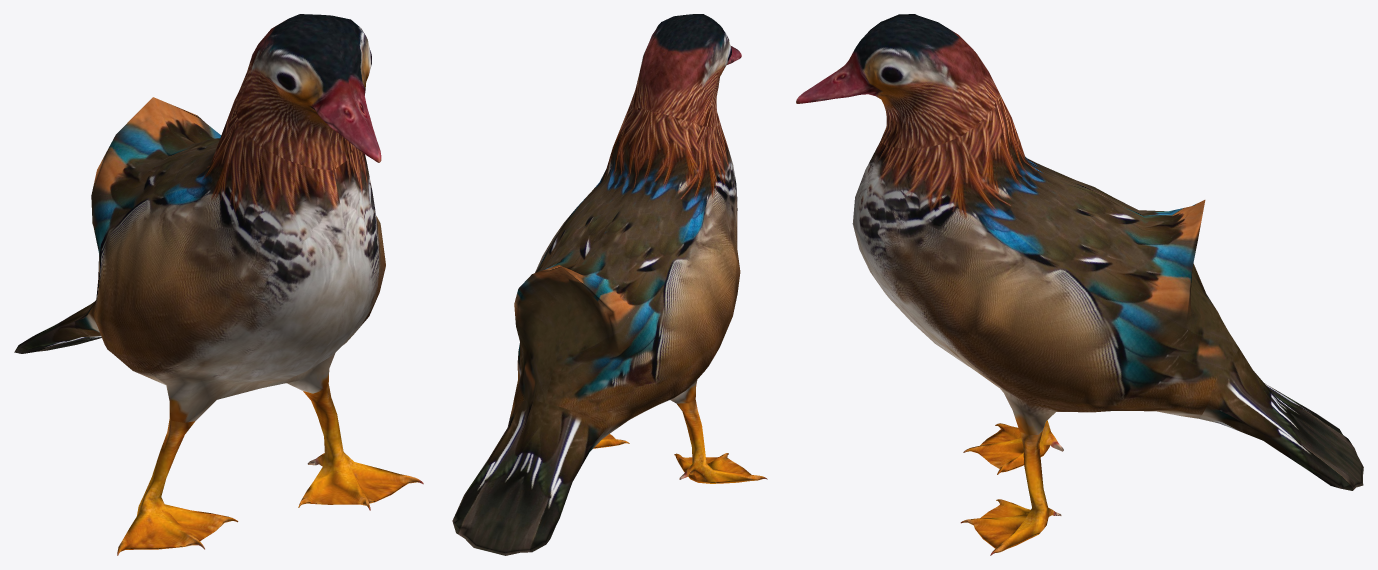
Rendered from Duck.fbx.
3 renders of one model, left to right at view 1: azimuth 30°, elevation 25°; view 2: azimuth 150°, elevation 25°; view 3: azimuth 270°, elevation 25°, orthographic. The views are drawn at different scales.
Visible parts, largest first — view 1: Duck; view 2: Duck; view 3: Duck.
Part boxes in pixels (bbox=[...]): Duck: bbox=[14, 14, 423, 555]; Duck: bbox=[452, 14, 767, 555]; Duck: bbox=[796, 14, 1363, 555].
Size of the model in its own units: 25685 by 43345 by 47352.
1 material, 1 textured.
